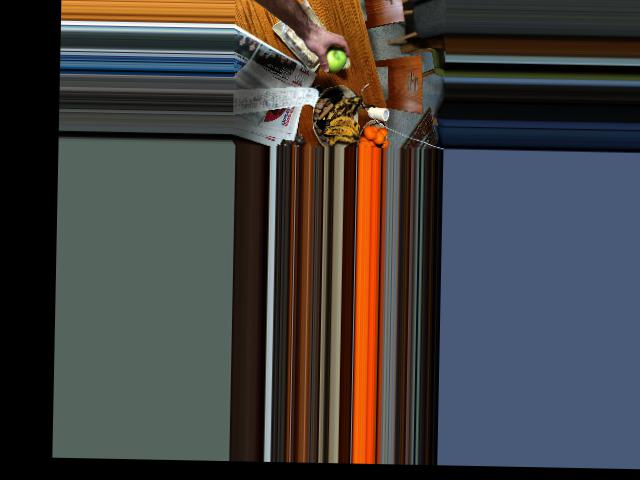apple: (321, 43, 347, 72)
